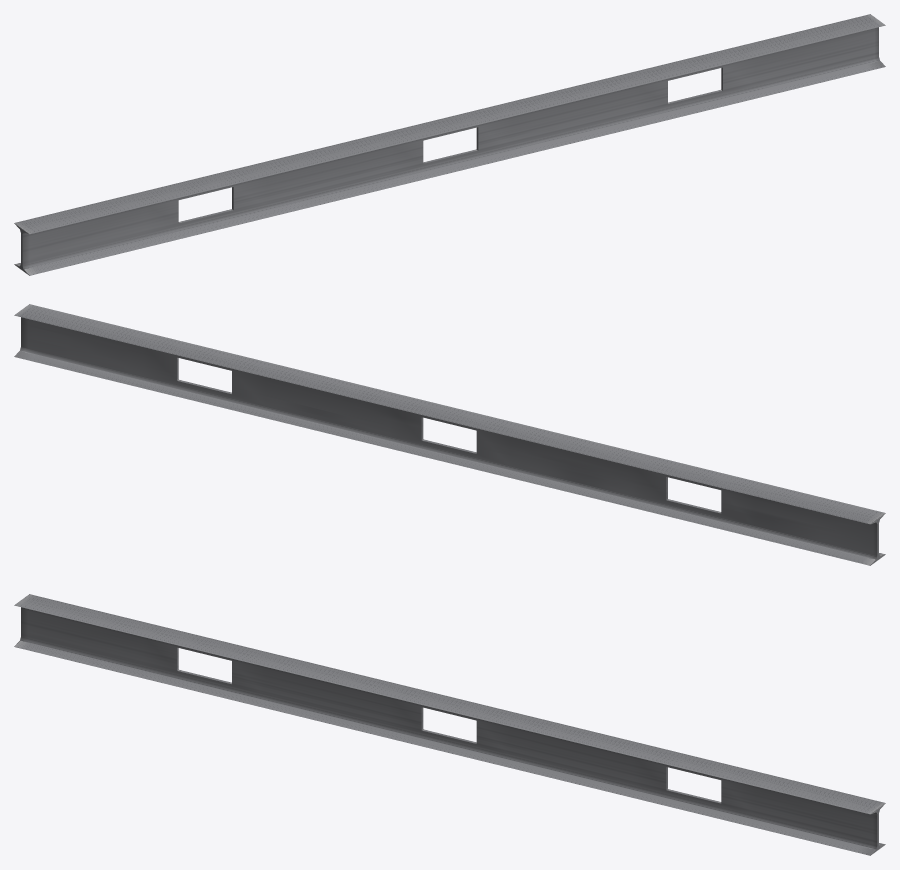
File: steelbeams.obj
3 views of the same model, one above another, from view 1: azimuth 30°, elevation 25°; view 2: azimuth 150°, elevation 25°; view 3: azimuth 330°, elevation 25° (orthographic).
Parts seen in each view (by area): view 1: pCube1; view 2: pCube1; view 3: pCube1.
Boxes of the visible parts, x1,y1,x2,y2 form: pCube1: [14, 14, 885, 275]; pCube1: [14, 304, 885, 565]; pCube1: [14, 594, 885, 855].
Size of the model in its own units: 28.38 by 1.31 by 0.8936.
1 material, 1 textured.
